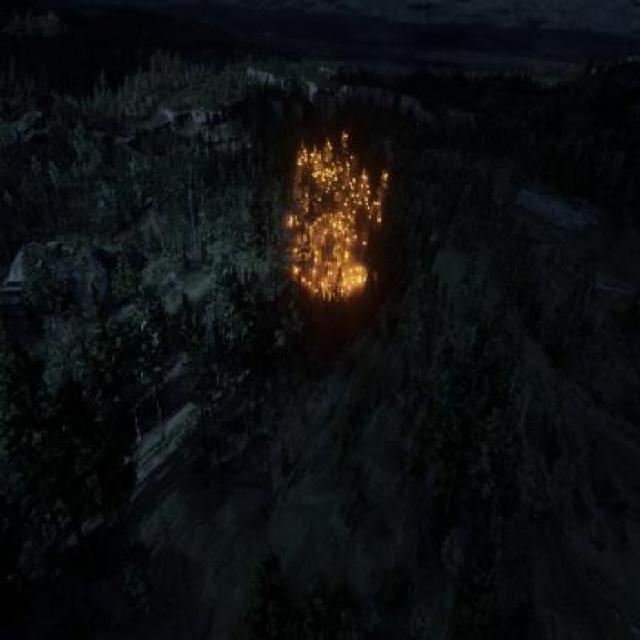Fire: (265, 117, 404, 322)
